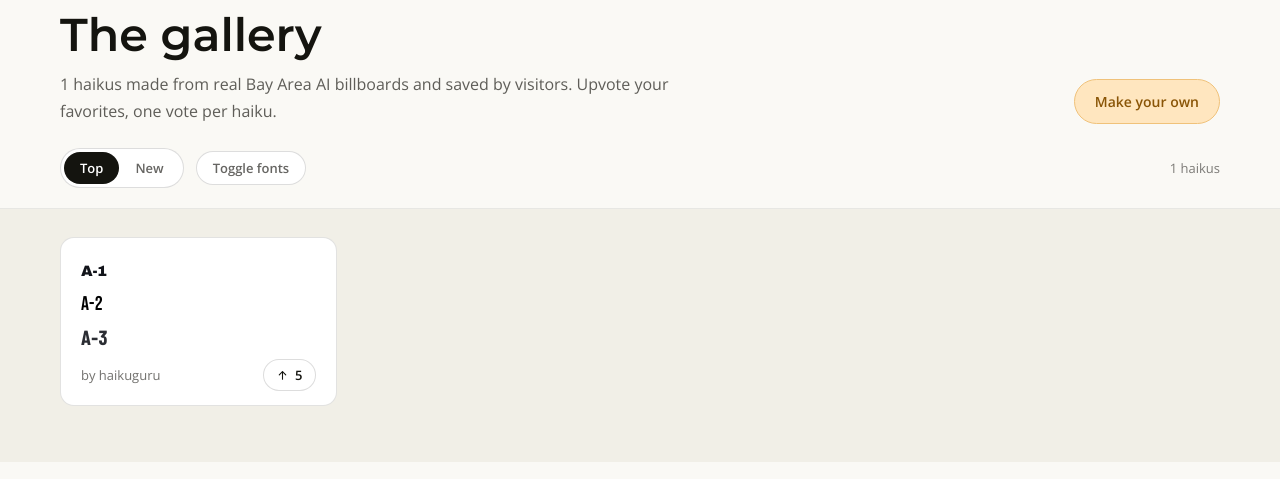
Test case: GalleryPage › upvotes a haiku, marks its button pressed, and persists the vote
The image size is (1280, 479).
Expected: the text "a-1" is shown, [81,263,107,279]
Click the button named "upvote" at x=289, y=375, box [263,359,316,391]
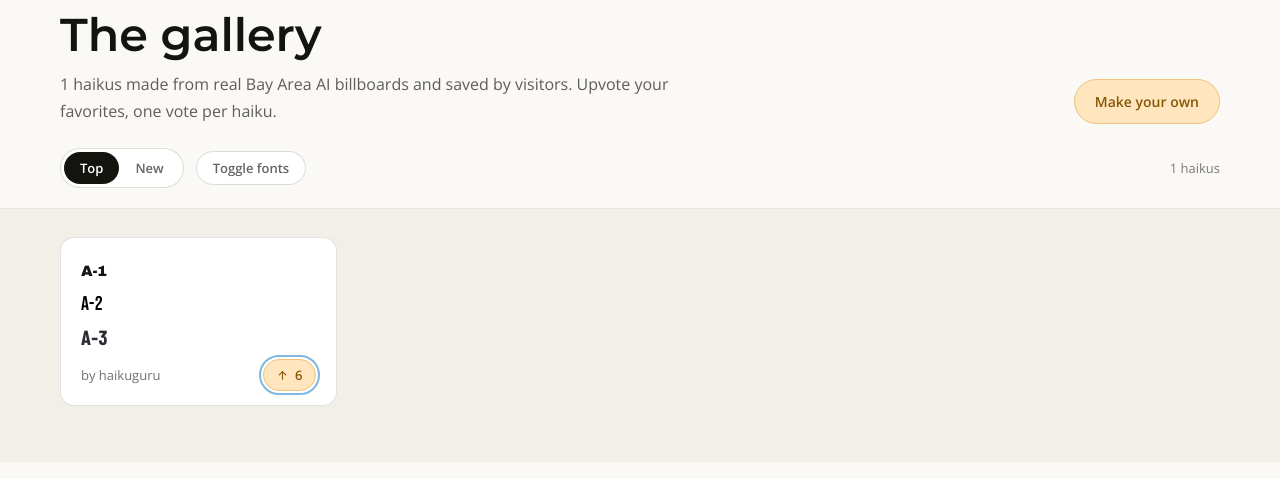
Now the button named "upvote" reads "6", box [263,359,316,391]
